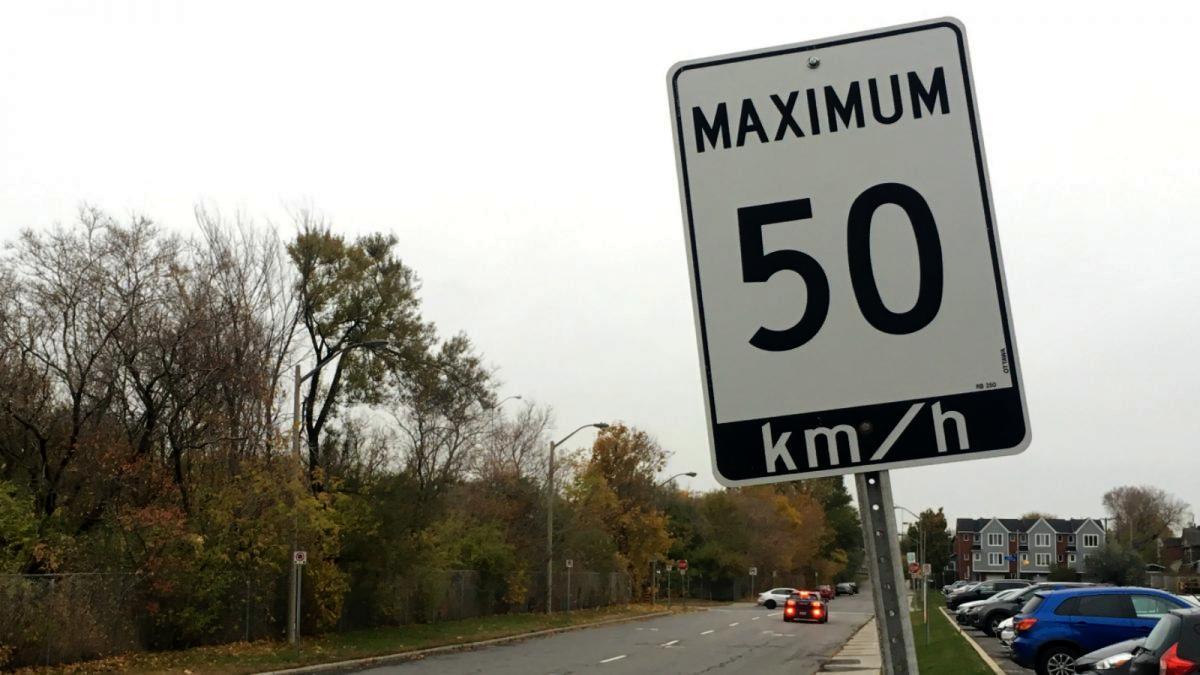speed limit sign: (666, 23, 1027, 485)
